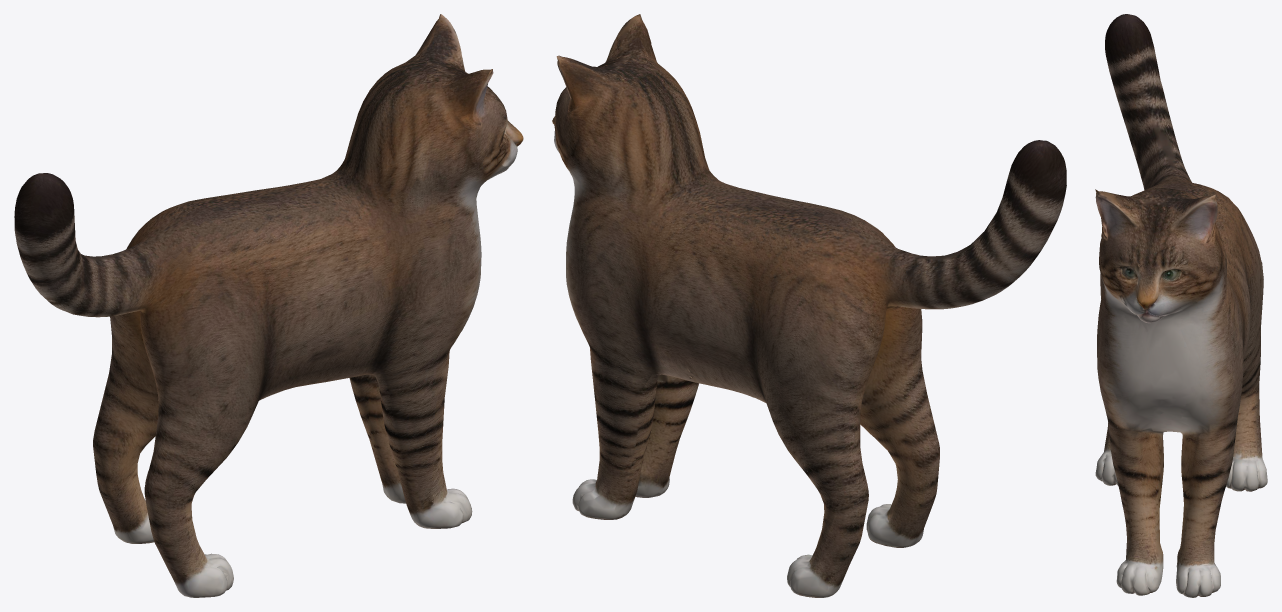
File: GLICAT.glb
3 renders of one model, left to right at view 1: azimuth 30°, elevation 25°; view 2: azimuth 150°, elevation 25°; view 3: azimuth 270°, elevation 25°, orthographic. The views are drawn at different scales.
Visible parts, largest first — view 1: material; view 2: material; view 3: material.
Boxes of the visible parts, left/top/right/bottom form: material: left=14, top=14, right=523, bottom=597; material: left=552, top=14, right=1066, bottom=597; material: left=1095, top=14, right=1267, bottom=597.
Bounding box in the file's own units: 1.15 × 0.9995 × 0.3808.
1 material, 1 textured.
